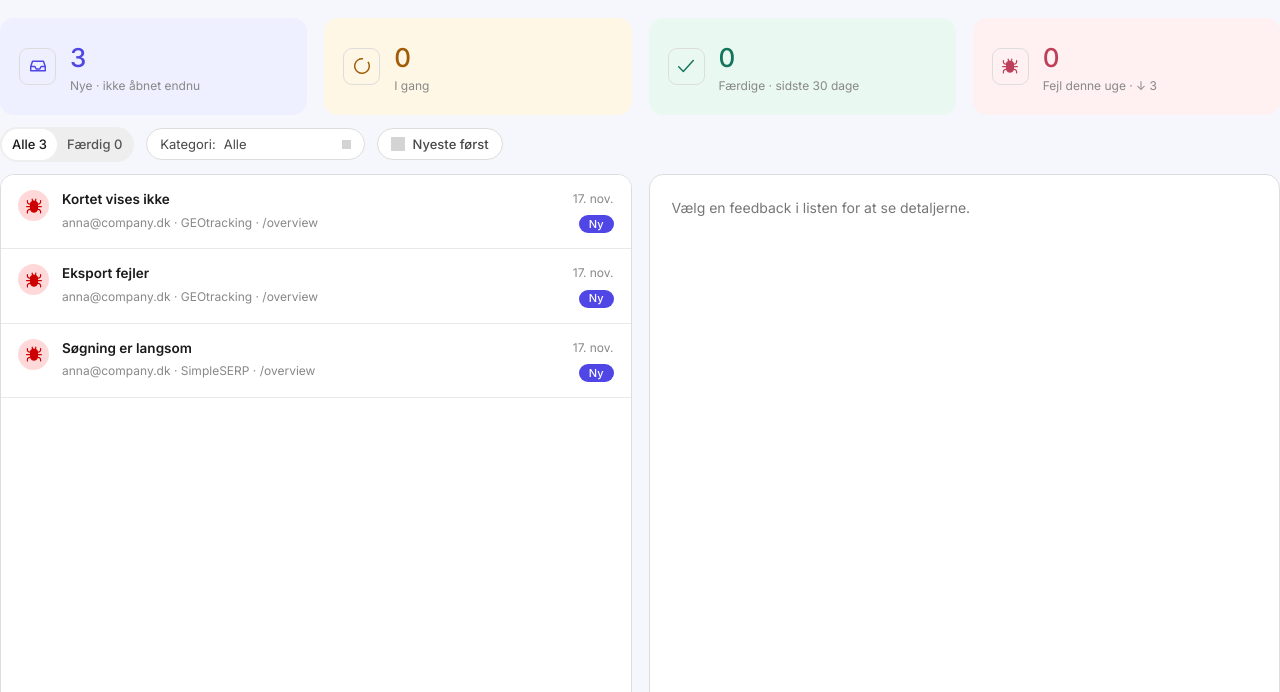
Scenario: side menu and inbox together › hides a platform's count when its last unread ticket is opened (FR-005)
(page scrolled)
Click the button "Søgning er langsom": (316, 361) 1,324 -> 630,398
(page scrolled)
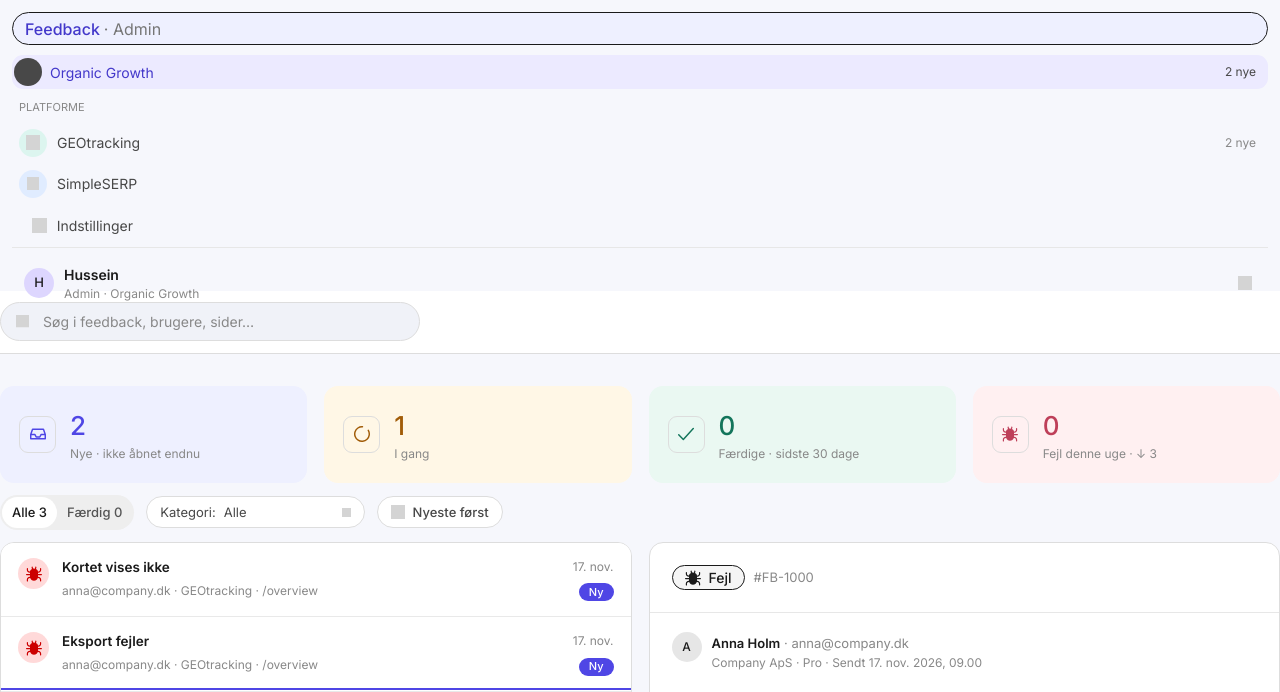
Expected: the link "SimpleSERP" is shown, 19,170 -> 137,198
Expected: the link "Organic Growth 2 nye" is shown, 12,55 -> 1268,89
